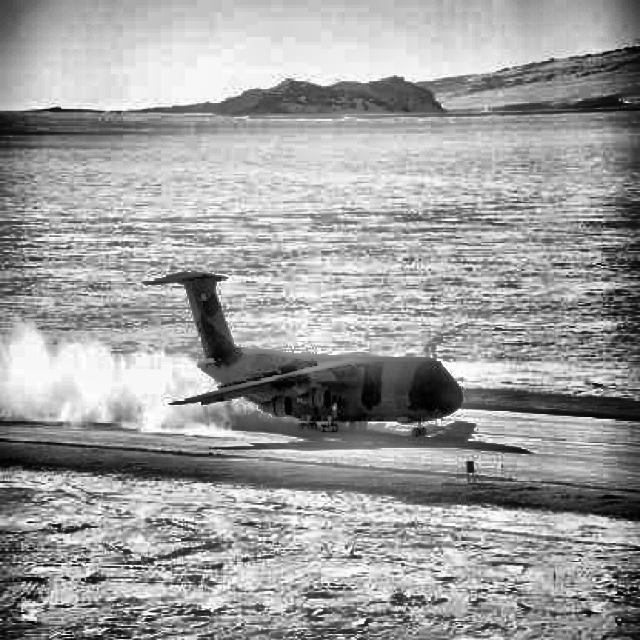C5: (141, 270, 464, 438)
